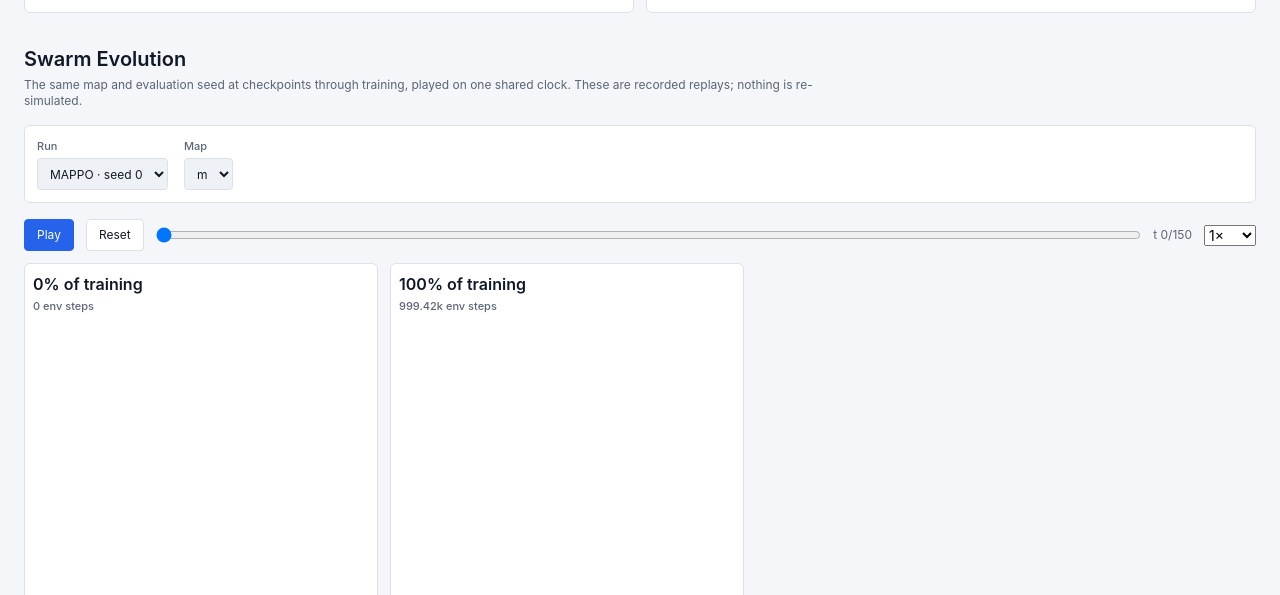
Test: Swarm Analysis page › Swarm Evolution plays all checkpoints on ONE shared clock with a mission strip per panel
(page scrolled)
Expected: the text "0% of training" is shown 2 times, left=33, top=274, right=143, bottom=294; left=399, top=274, right=526, bottom=294
Set the slider named "Shared timeline" to "30" at {"x": 358, "y": 235}, box left=156, top=227, right=1141, bottom=243
(page scrolled)
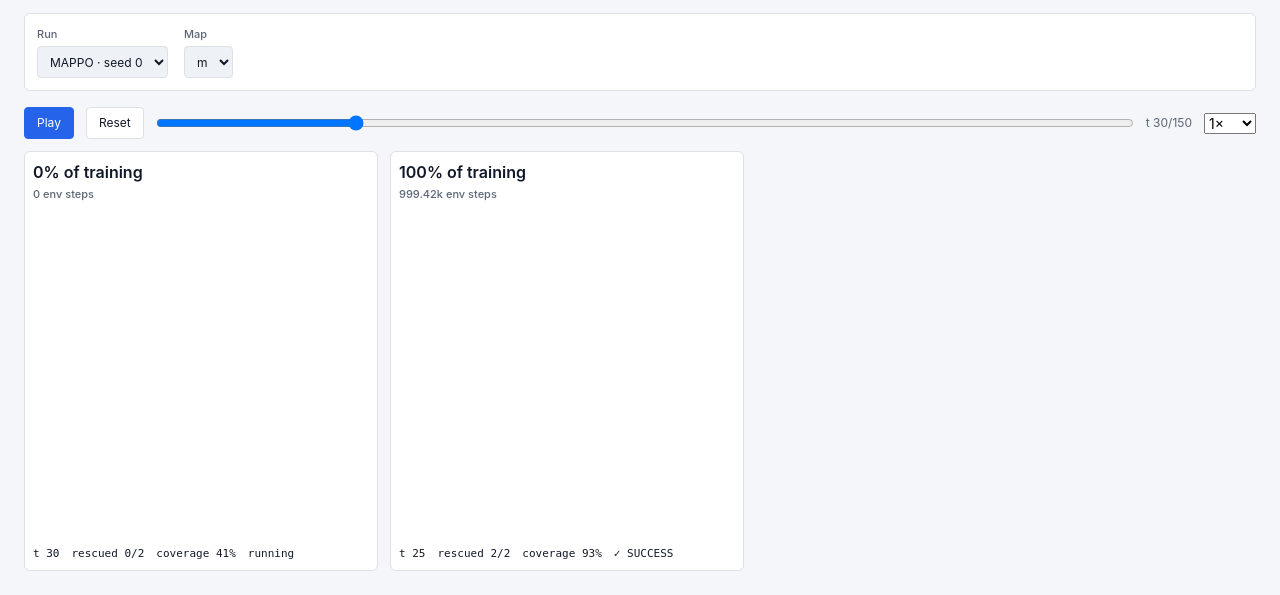
Expected: the text "running" is shown, left=248, top=546, right=294, bottom=562
Result: the text "✓ SUCCESS" is shown at left=614, top=546, right=673, bottom=562
Result: the text "rescued 2/2" is shown at left=438, top=546, right=510, bottom=562
